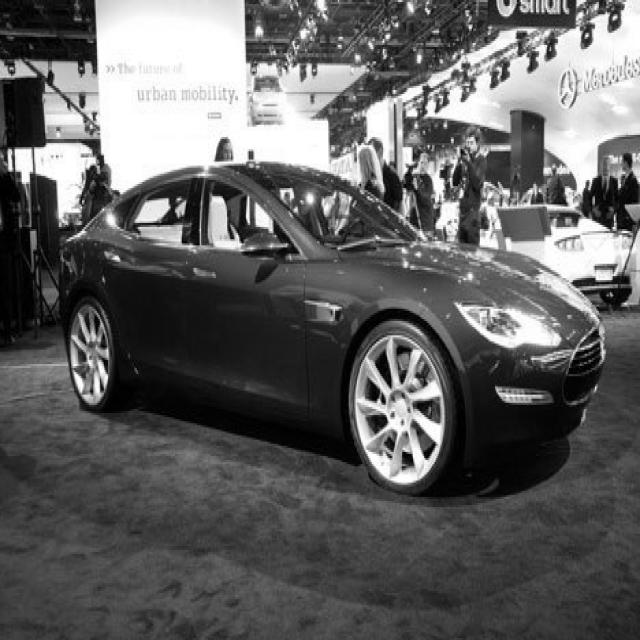car: (57, 159, 606, 495)
